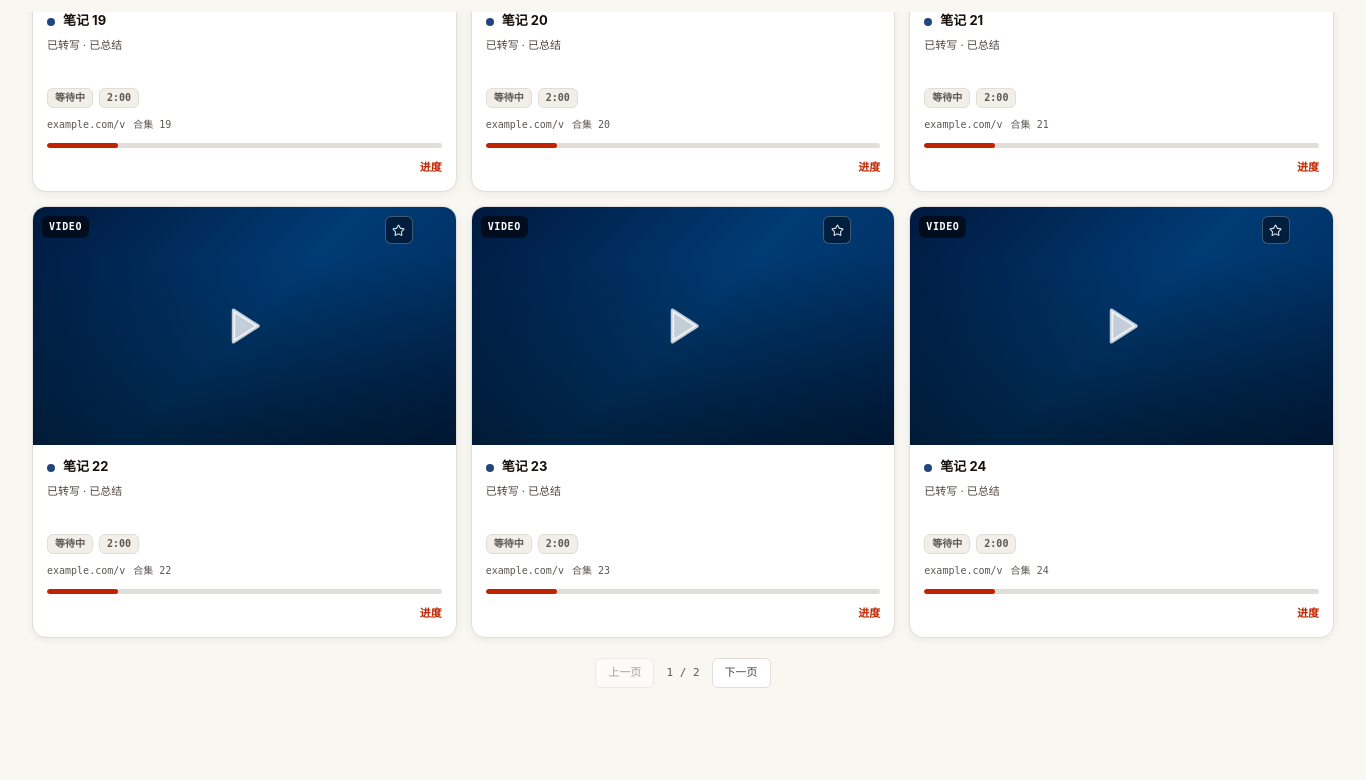
Test: LibraryPage R4-A layout › 每页最多显示 24 个条目
(page scrolled)
Expected: the heading "笔记 24" is shown, x1=940 y1=458 x2=986 y2=474
Expected: the text "笔记 25" is not shown
Click the button "下一页" at (741, 673), box x1=712 y1=658 x2=771 y2=688
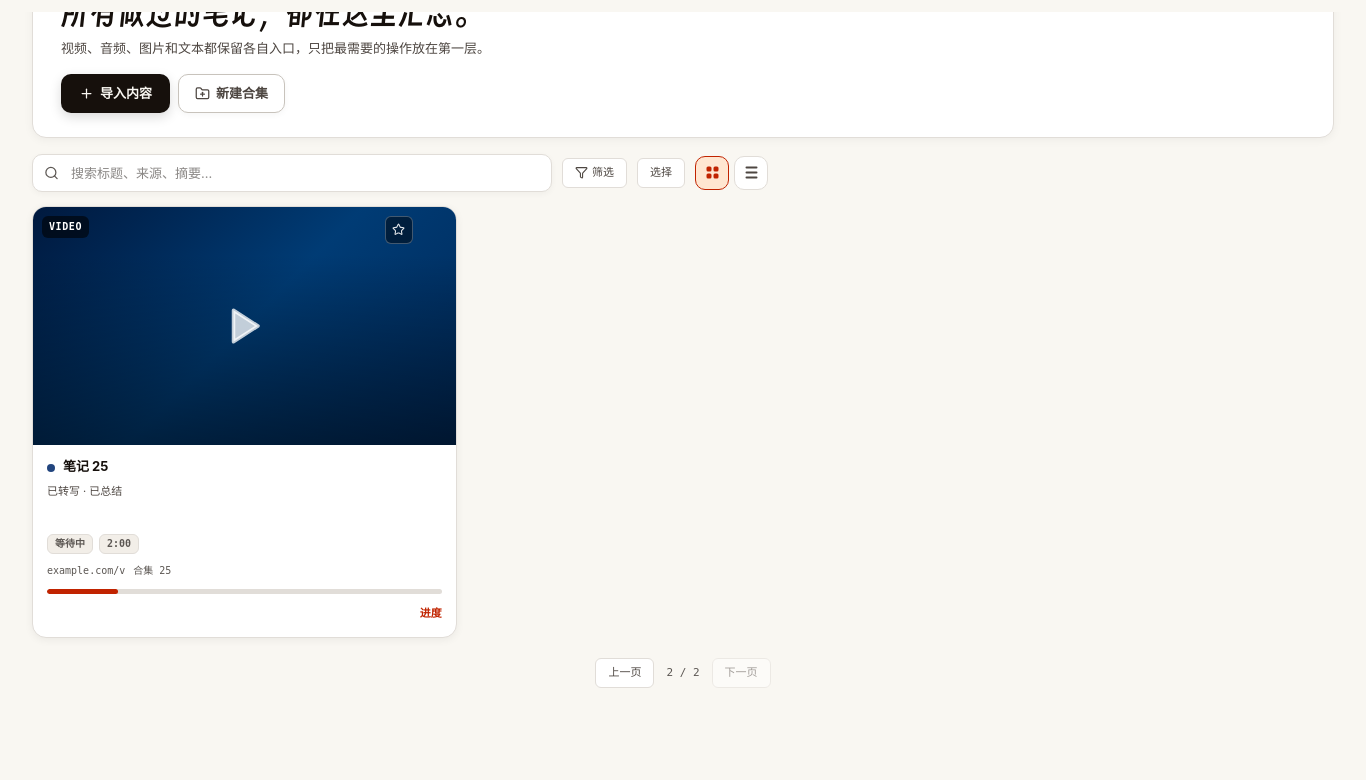
Expected: the heading "笔记 25" is shown, x1=63 y1=458 x2=108 y2=474
